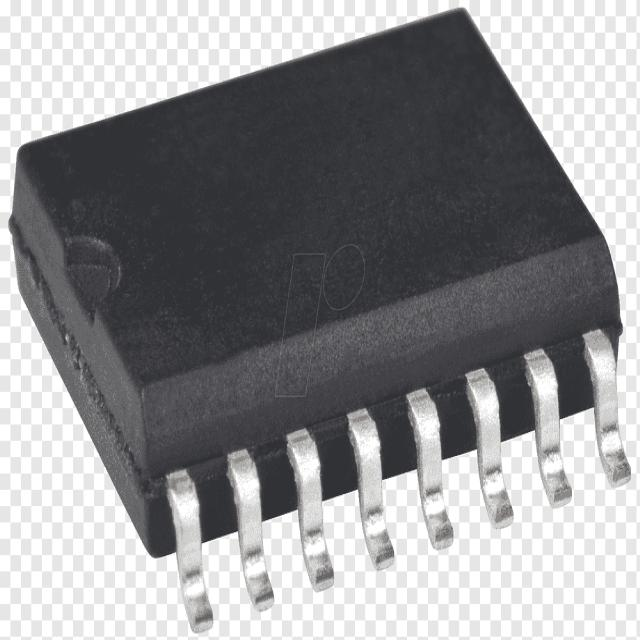IC: (9, 14, 629, 623)
